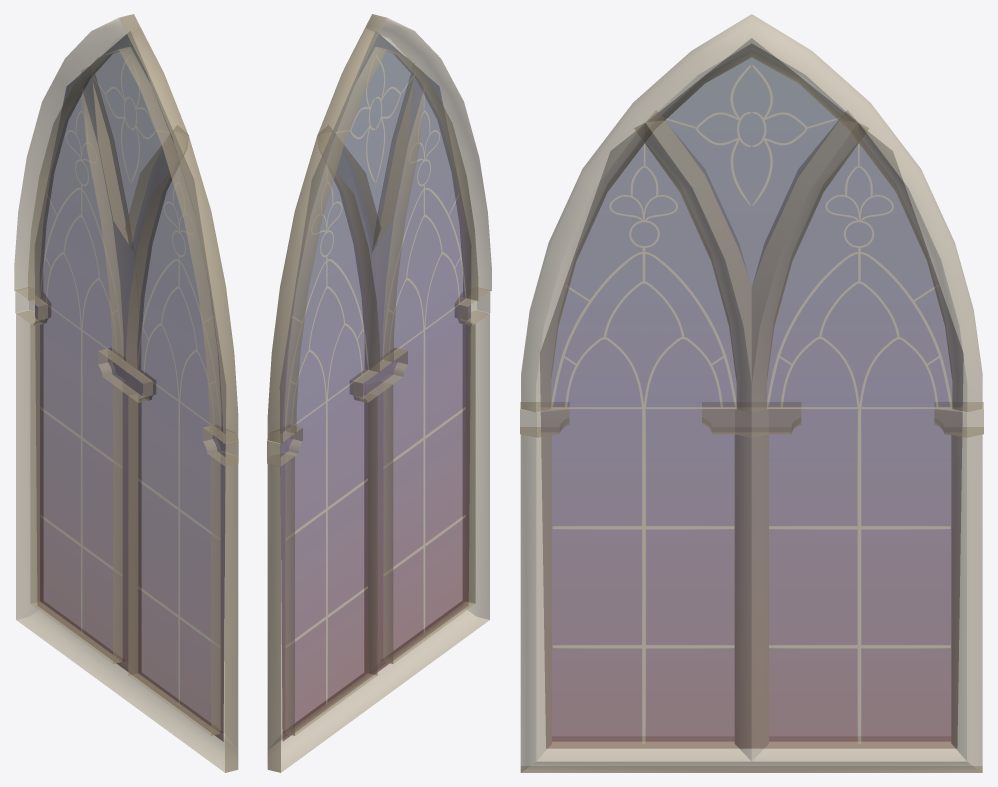
The model's file is witraz.fbx.
3 renders of one model, left to right at view 1: azimuth 30°, elevation 25°; view 2: azimuth 150°, elevation 25°; view 3: azimuth 270°, elevation 25°, orthographic. The views are drawn at different scales.
Parts seen in each view (by area): view 1: glass, Cube.007; view 2: glass, Cube.007; view 3: glass, Cube.007.
Boxes of the visible parts, x1=… form: glass: x1=35, y1=31, x2=225, y2=741; Cube.007: x1=14, y1=14, x2=238, y2=772; glass: x1=280, y1=31, x2=471, y2=741; Cube.007: x1=267, y1=14, x2=491, y2=772; glass: x1=540, y1=38, x2=963, y2=748; Cube.007: x1=520, y1=14, x2=983, y2=772.
Bounding box in the file's own units: 22.97 × 671 × 376.
2 materials, 2 textured.
